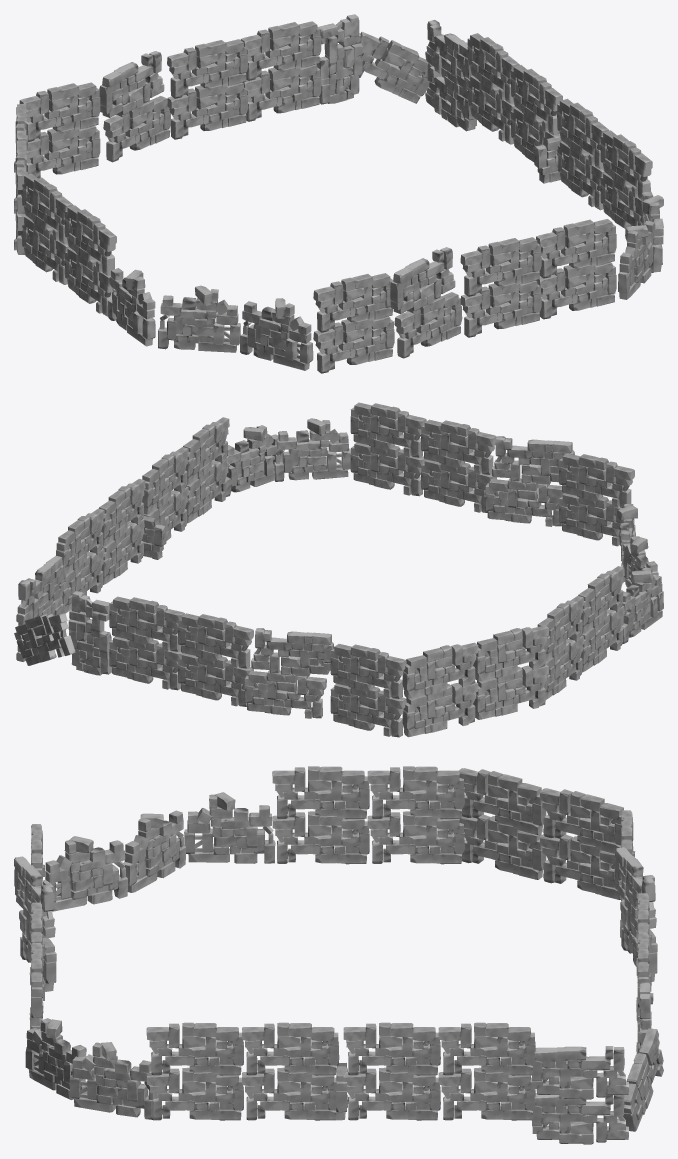
The model's file is map_02.obj.
3 views of the same model, one above another, from view 1: azimuth 30°, elevation 25°; view 2: azimuth 150°, elevation 25°; view 3: azimuth 270°, elevation 25° (orthographic). The views are drawn at different scales.
Parts seen in each view (by area): view 1: Wall_03.001_Cube.001; view 2: Wall_03.001_Cube.001; view 3: Wall_03.001_Cube.001.
Boxes of the visible parts, box(x1,y1,x2,y2) form: Wall_03.001_Cube.001: box(14, 14, 663, 373); Wall_03.001_Cube.001: box(14, 402, 663, 737); Wall_03.001_Cube.001: box(14, 766, 663, 1144).
Size of the model in its own units: 115 by 24.17 by 119.
